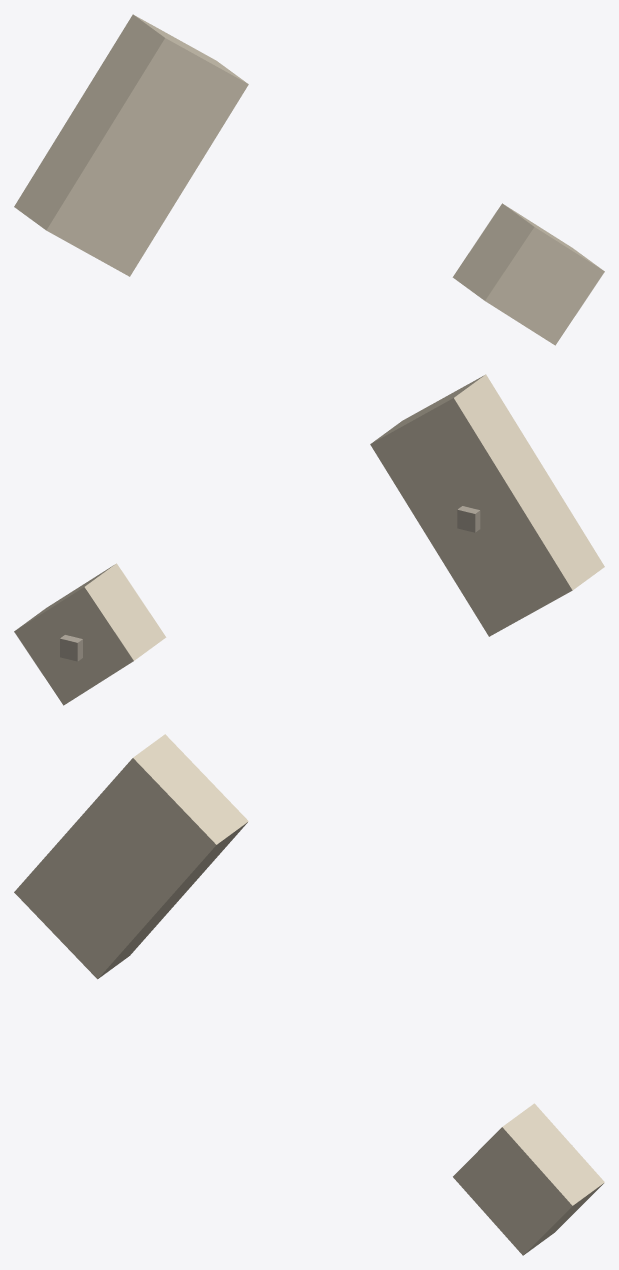
The model's file is historic-palestine-08_18_3504_3122.glb.
3 renders of one model, top to bottom at view 1: azimuth 30°, elevation 25°; view 2: azimuth 150°, elevation 25°; view 3: azimuth 330°, elevation 25°, orthographic.
Visible parts, largest first — view 1: Building_.001, Building_; view 2: Building_.001, Building_, Roof access hut .001, Roof access hut; view 3: Building_.001, Building_.
Part boxes in pixels (<box>): Building_.001: <box>14,14,248,276</box>; Building_: <box>452,203,604,345</box>; Building_.001: <box>370,374,604,636</box>; Building_: <box>14,563,166,705</box>; Roof access hut .001: <box>457,506,480,532</box>; Roof access hut: <box>60,635,82,661</box>; Building_.001: <box>14,734,248,979</box>; Building_: <box>453,1103,604,1255</box>.
Size of the model in its own units: 74.84 by 51.57 by 8.7.
